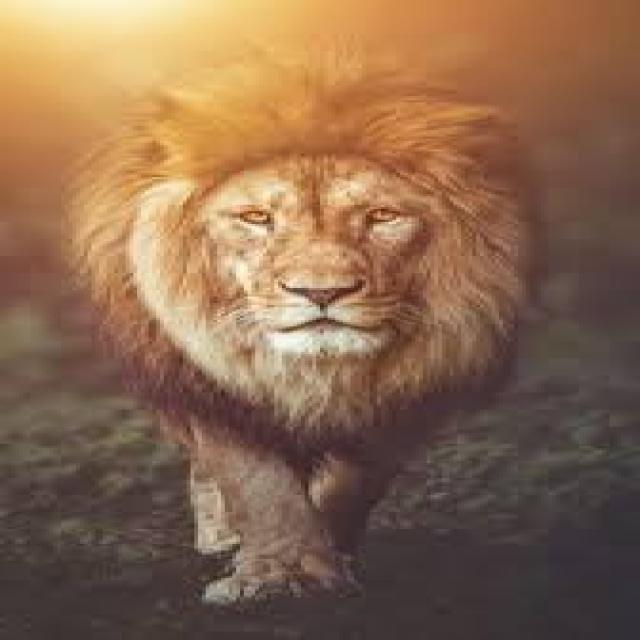Lion: (61, 38, 543, 606)
